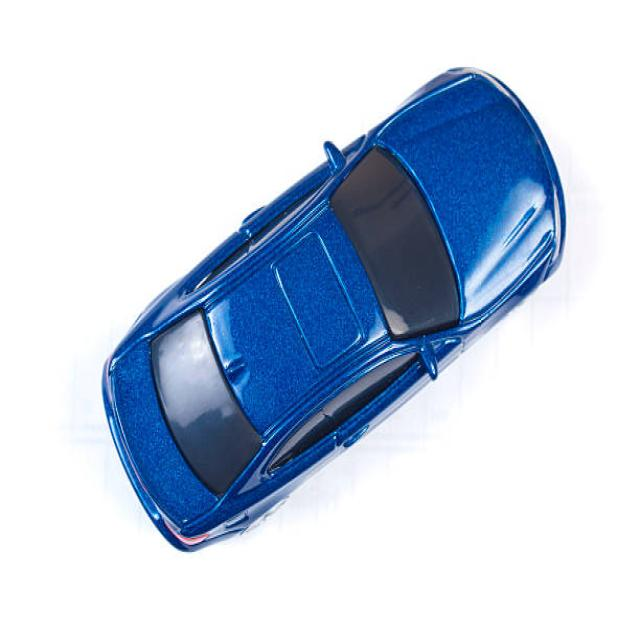Car: (100, 64, 567, 552)
